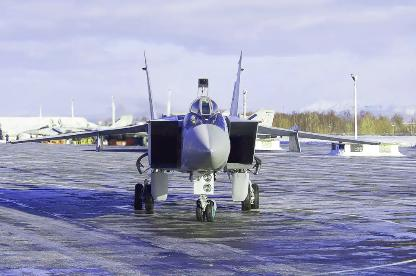Mig31: (7, 48, 385, 222), (22, 114, 134, 142)
